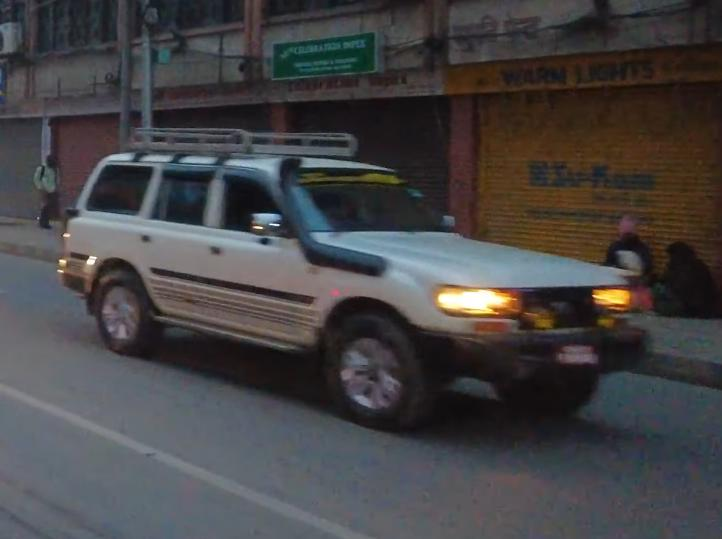SUV: (52, 120, 657, 435)
